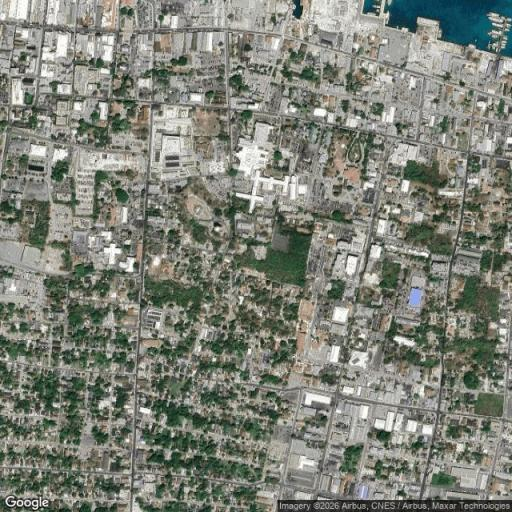ship: (487, 16, 504, 24), (488, 12, 505, 19), (491, 22, 503, 29), (385, 11, 391, 24), (437, 28, 444, 39), (489, 29, 502, 34), (386, 0, 395, 7), (490, 34, 498, 39), (371, 5, 381, 9), (505, 22, 511, 27), (366, 12, 376, 15), (506, 16, 511, 21), (502, 37, 510, 40), (505, 28, 511, 31), (502, 40, 508, 43), (501, 44, 508, 46), (500, 47, 507, 49)
